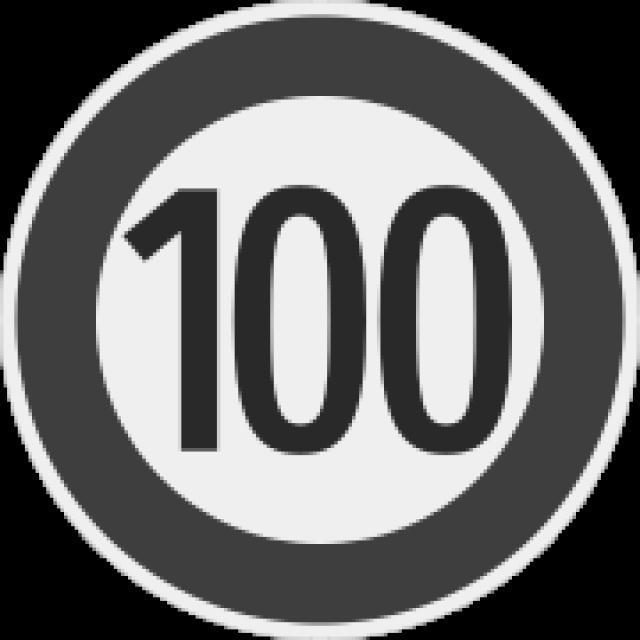speed limit 100: (22, 16, 625, 625)
